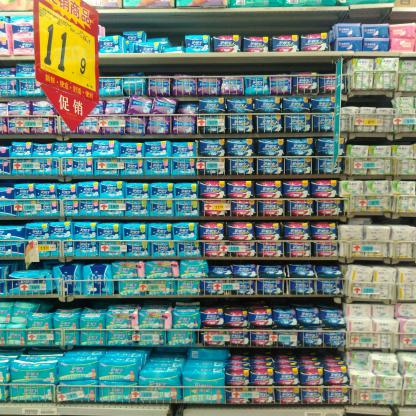Void: (98, 59, 336, 76), (152, 16, 326, 33), (206, 298, 342, 306), (232, 348, 337, 355), (350, 95, 394, 108)
